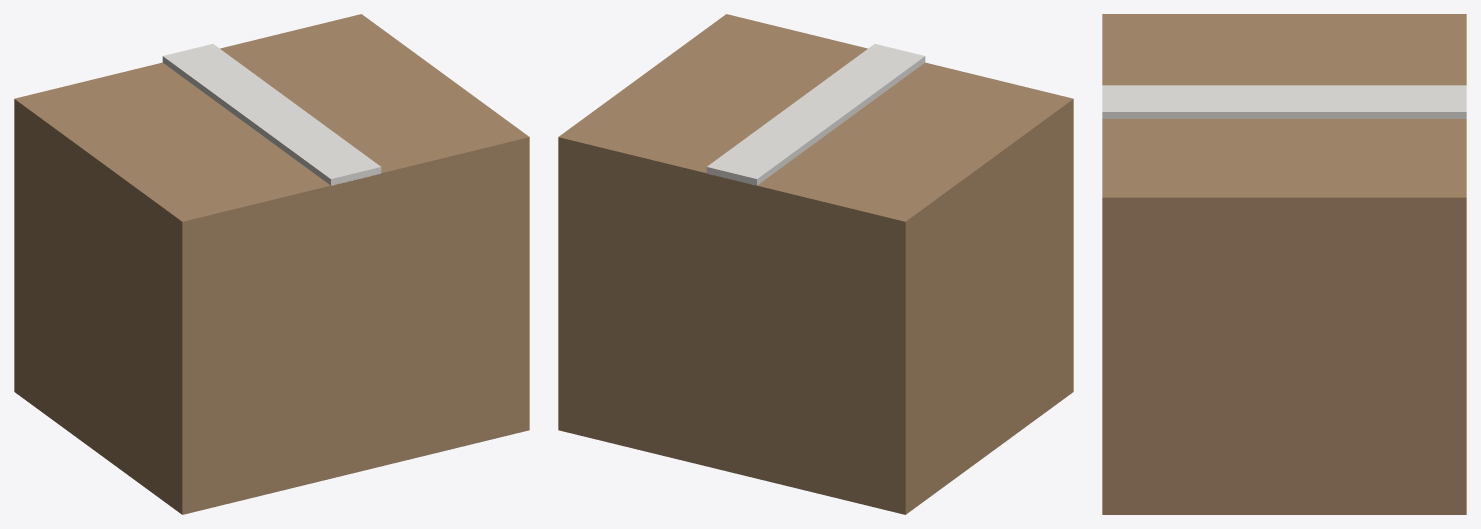
3 renders of one model, left to right at view 1: azimuth 30°, elevation 25°; view 2: azimuth 150°, elevation 25°; view 3: azimuth 270°, elevation 25°, orthographic. The views are drawn at different scales.
Visible parts, largest first — view 1: Box, Tape; view 2: Box, Tape; view 3: Box, Tape.
Boxes of the visible parts, left/top/right/bottom form: Box: left=14, top=14, right=529, bottom=514; Tape: left=162, top=44, right=381, bottom=185; Box: left=558, top=14, right=1073, bottom=514; Tape: left=706, top=44, right=925, bottom=185; Box: left=1102, top=14, right=1466, bottom=514; Tape: left=1102, top=85, right=1466, bottom=118.
Size of the model in its own units: 0.62 by 0.511 by 0.52.
